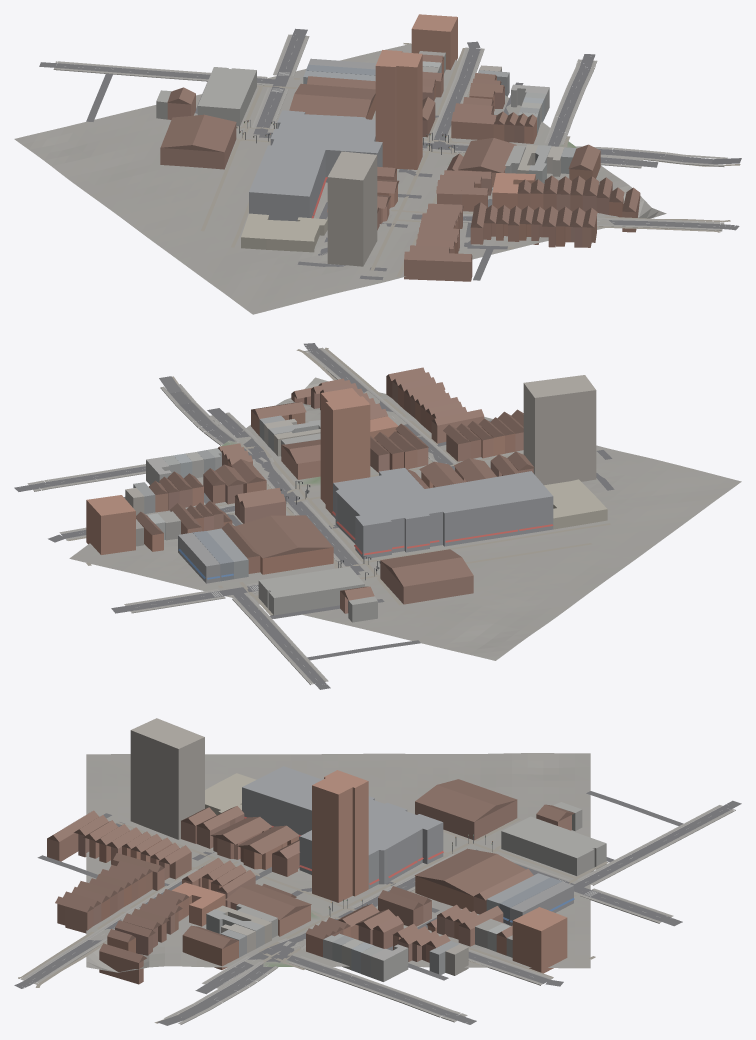
Rendered from tile_-9_5.glb.
3 views of the same model, one above another, from view 1: azimuth 30°, elevation 25°; view 2: azimuth 150°, elevation 25°; view 3: azimuth 270°, elevation 25° (orthographic). The views are drawn at different scales.
Visible parts, largest first — view 1: buildings, terrain, roads, sidewalks, paths; view 2: buildings, terrain, roads, sidewalks, paths, awnings; view 3: buildings, terrain, roads, sidewalks, paths.
Boxes of the visible parts, x1,y1,x2,y2 form: buildings: [156, 14, 640, 281]; terrain: [14, 43, 666, 314]; roads: [39, 28, 741, 280]; sidewalks: [53, 34, 727, 231]; paths: [201, 43, 740, 276]; buildings: [86, 367, 607, 622]; terrain: [69, 377, 741, 660]; roads: [14, 343, 614, 689]; sidewalks: [27, 347, 456, 684]; paths: [68, 347, 610, 615]; awnings: [178, 511, 552, 579]; buildings: [47, 718, 606, 984]; terrain: [86, 753, 590, 972]; roads: [14, 791, 741, 1025]; sidewalks: [20, 805, 735, 1024]; paths: [18, 818, 608, 1023].
Bounding box in the file's own units: 326 × 70.97 × 369.
